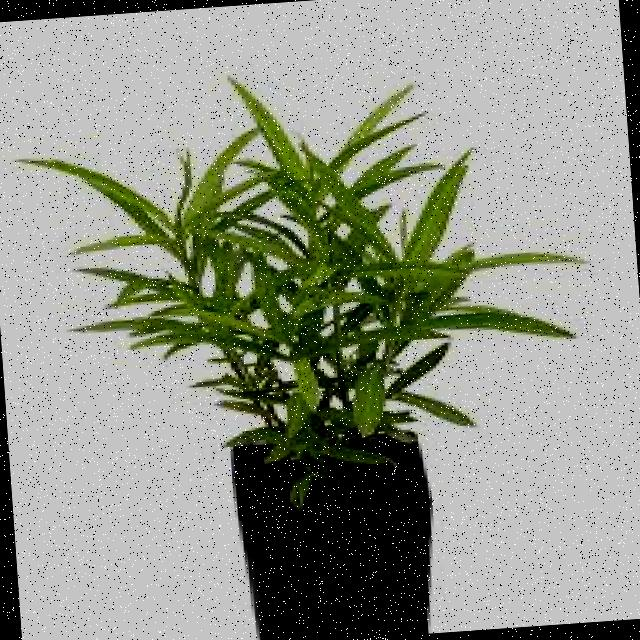plant: (45, 81, 582, 629)
